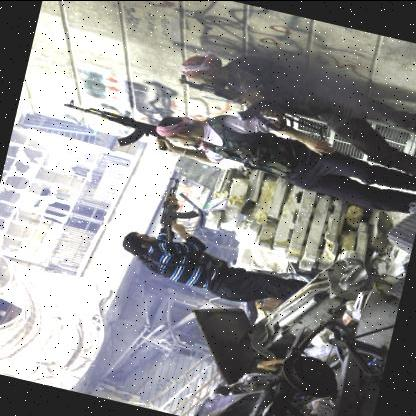rifle: (58, 99, 225, 169), (175, 69, 326, 139), (148, 173, 212, 252)
